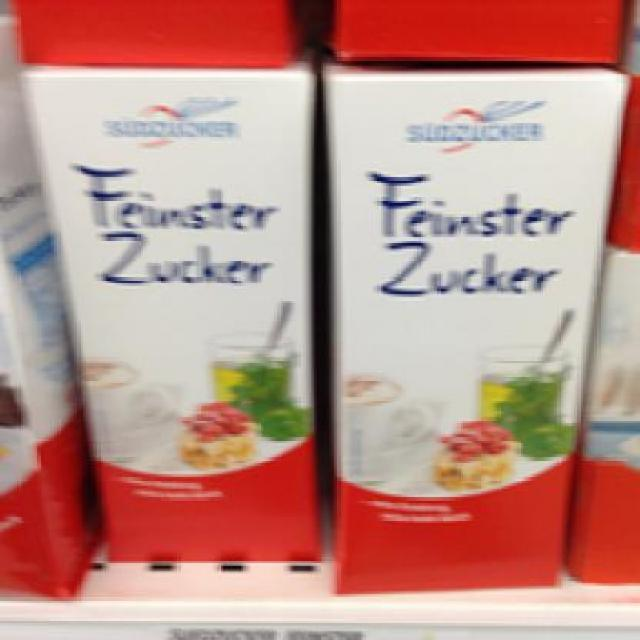Sugar: (320, 65, 629, 598), (17, 60, 317, 563)
